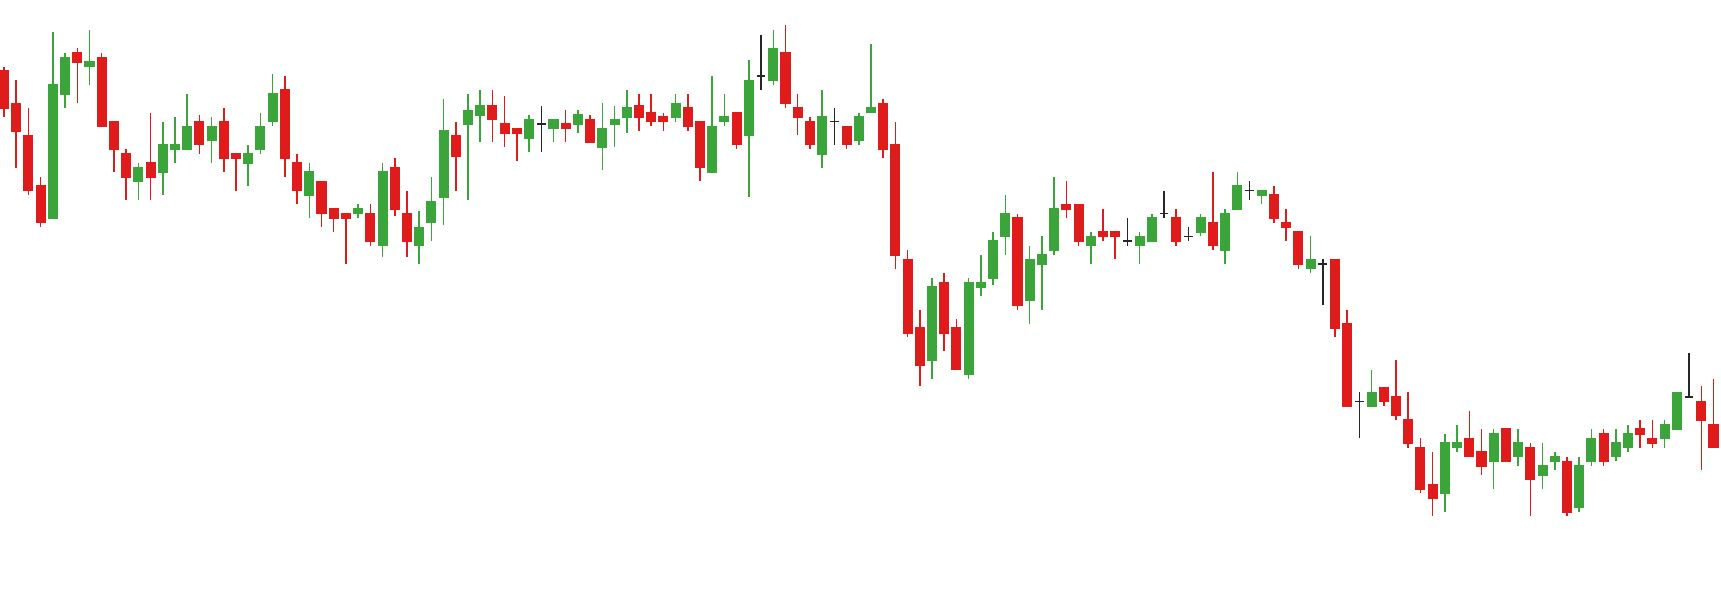sell: (706, 29, 794, 150), (1156, 170, 1280, 247), (179, 74, 294, 150)
